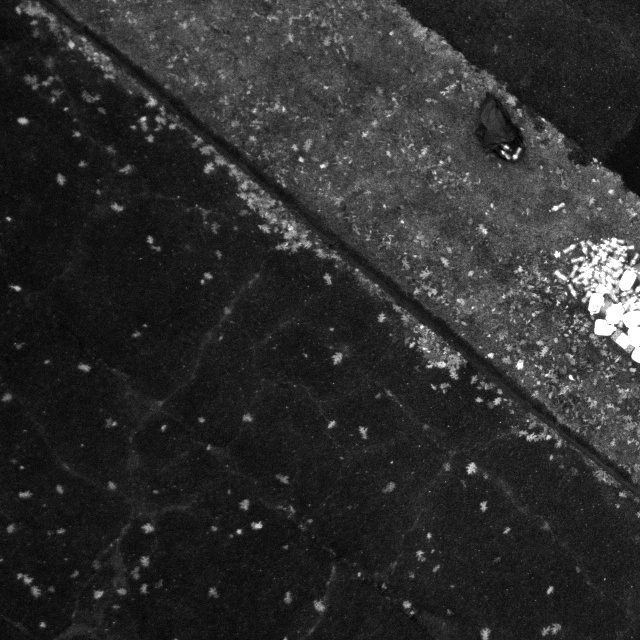bottle: (553, 267, 571, 283), (548, 200, 567, 214), (567, 281, 579, 300), (562, 241, 579, 254), (585, 238, 600, 252), (498, 148, 513, 162), (571, 270, 587, 283), (579, 239, 590, 257), (583, 280, 600, 291), (569, 261, 580, 278), (511, 146, 523, 161), (590, 252, 602, 267), (570, 254, 589, 262), (499, 143, 511, 152)
can: (587, 291, 605, 315)
